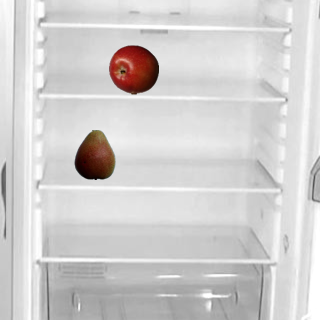Apple Braeburn: (108, 44, 158, 94)
Pear Forelle: (69, 129, 119, 179)
